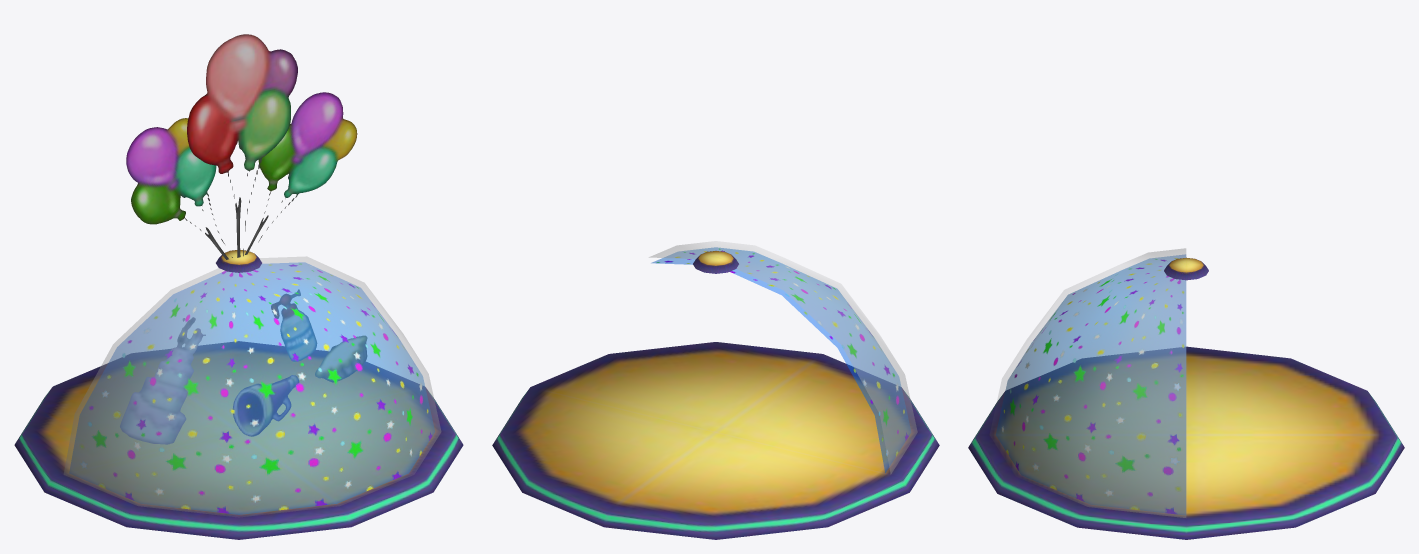
File: gag_globe.glb
The picture shows the model from 3 angles, left to right: view 1: azimuth 30°, elevation 25°; view 2: azimuth 150°, elevation 25°; view 3: azimuth 270°, elevation 25°; orthographic projection. The views are drawn at different scales.
Parts seen in each view (by area): view 1: gagGlobe_mesh, innerGlobeMesh, balloons_joint, cake_joint, megaphone_joint, seltzerBottle_joint, pie_joint; view 2: gagGlobe_mesh, innerGlobeMesh; view 3: gagGlobe_mesh, innerGlobeMesh.
Part boxes in pixels (x1,y1,x2,y2): gagGlobe_mesh: [14, 250, 463, 539]; innerGlobeMesh: [69, 262, 434, 514]; balloons_joint: [126, 34, 357, 259]; cake_joint: [120, 317, 205, 444]; megaphone_joint: [233, 375, 298, 436]; seltzerBottle_joint: [271, 289, 316, 361]; pie_joint: [315, 336, 367, 382]; gagGlobe_mesh: [492, 241, 939, 539]; innerGlobeMesh: [651, 247, 910, 472]; gagGlobe_mesh: [968, 248, 1404, 539]; innerGlobeMesh: [996, 254, 1185, 515].
Bounding box in the file's own units: 7.57 × 7.88 × 7.57.
5 materials, 4 textured.
